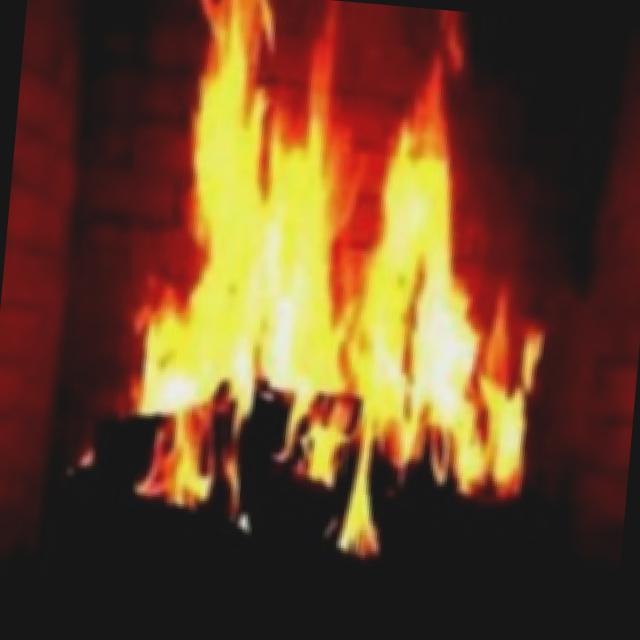fire: (60, 0, 579, 577)
